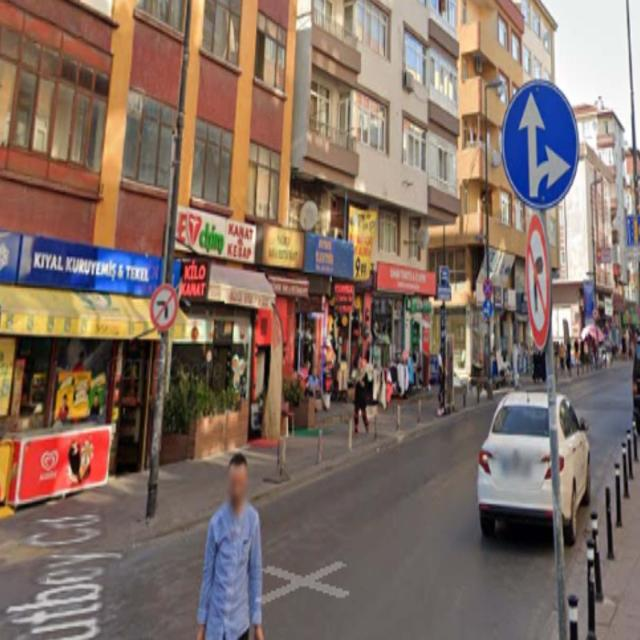ilerisag: (502, 83, 578, 206)
sagadonulmez: (521, 215, 553, 349)
soladonulmez: (150, 285, 179, 329)
